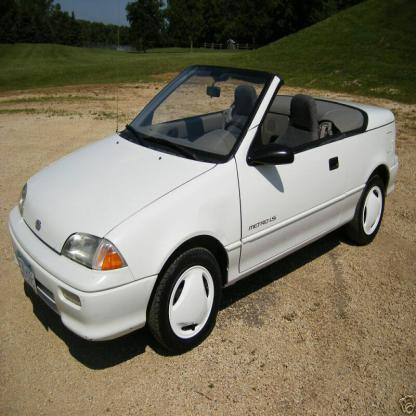Vehicle: (8, 65, 400, 356)
